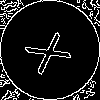X: (25, 25, 81, 76)
